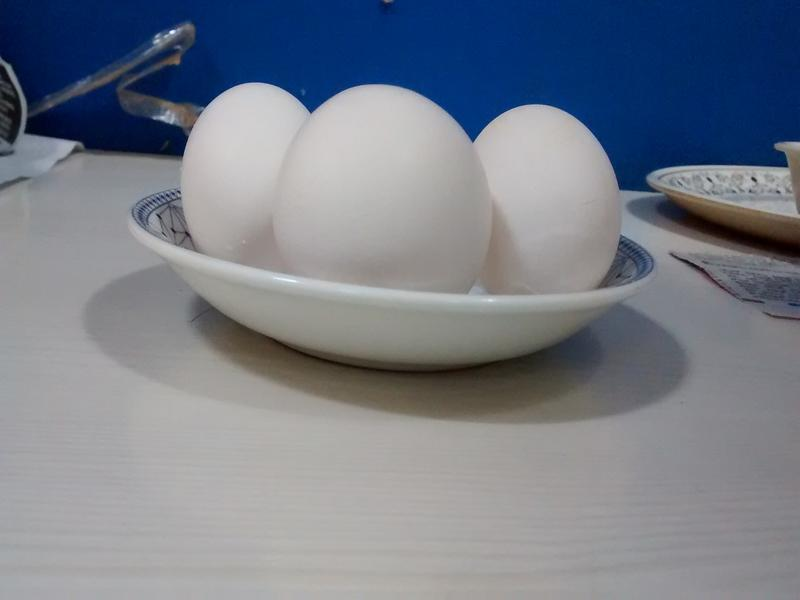egg: (277, 85, 487, 296)
